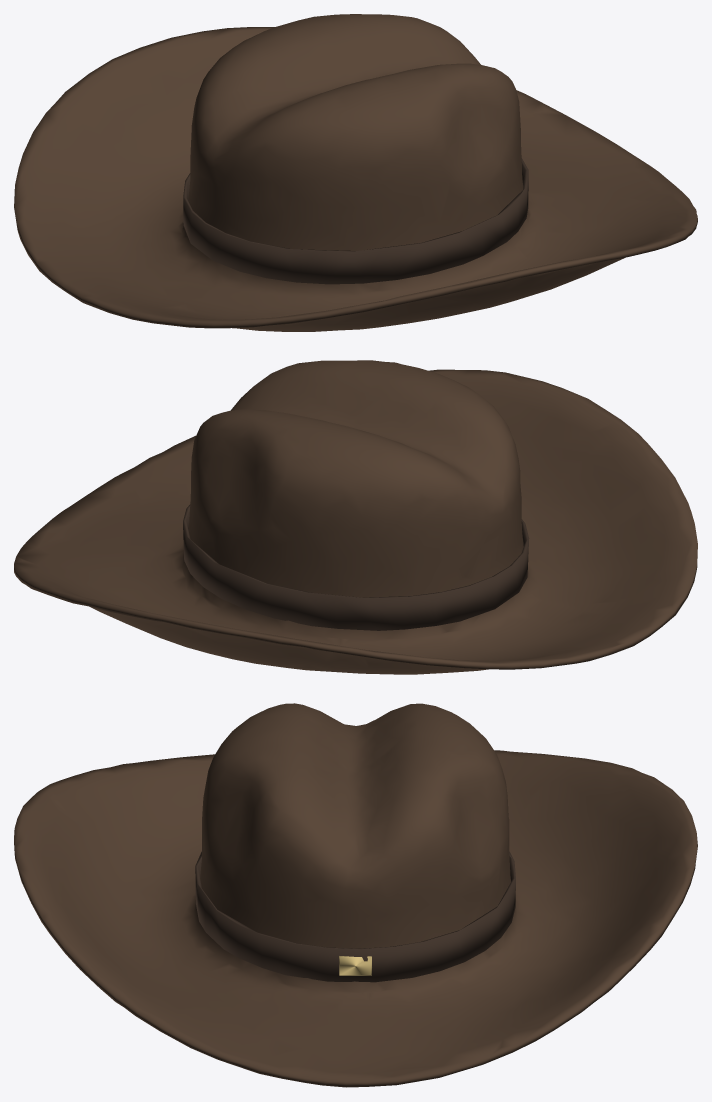
File: cowboyhat.glb
3 views of the same model, one above another, from view 1: azimuth 30°, elevation 25°; view 2: azimuth 150°, elevation 25°; view 3: azimuth 270°, elevation 25° (orthographic). The views are drawn at different scales.
Visible parts, largest first — view 1: CowboyHat, HatBand; view 2: CowboyHat, HatBand; view 3: CowboyHat, HatBand, Buckle.
Boxes of the visible parts, x1,y1,x2,y2 form: CowboyHat: [14, 14, 697, 331]; HatBand: [183, 158, 528, 284]; CowboyHat: [14, 360, 697, 674]; HatBand: [183, 504, 529, 630]; CowboyHat: [14, 703, 697, 1087]; HatBand: [195, 851, 515, 982]; Buckle: [339, 956, 371, 975].
Bounding box in the file's own units: 0.412 × 0.1279 × 0.397.
